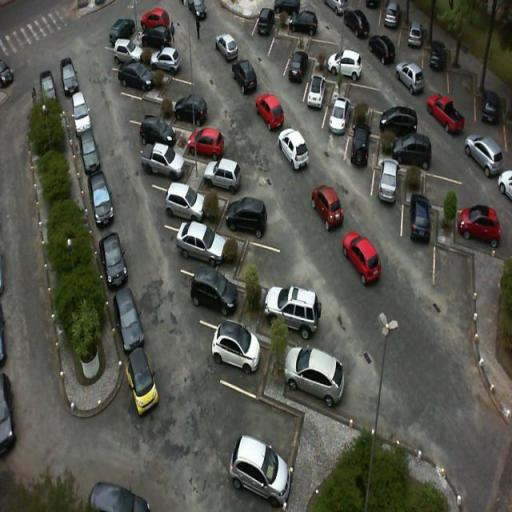Slot-empty: (214, 380, 292, 446), (233, 238, 308, 286), (434, 242, 475, 304), (415, 170, 471, 208), (344, 82, 404, 117), (119, 93, 170, 123), (448, 68, 478, 116), (262, 41, 297, 75), (157, 75, 198, 101)
Slot-occupied: (286, 338, 362, 414), (194, 317, 278, 379), (260, 276, 326, 342), (149, 175, 219, 226), (181, 270, 247, 318), (164, 222, 230, 263), (130, 139, 188, 182), (198, 155, 254, 190), (184, 124, 232, 162), (223, 201, 275, 233), (114, 63, 160, 87), (176, 101, 213, 127)
